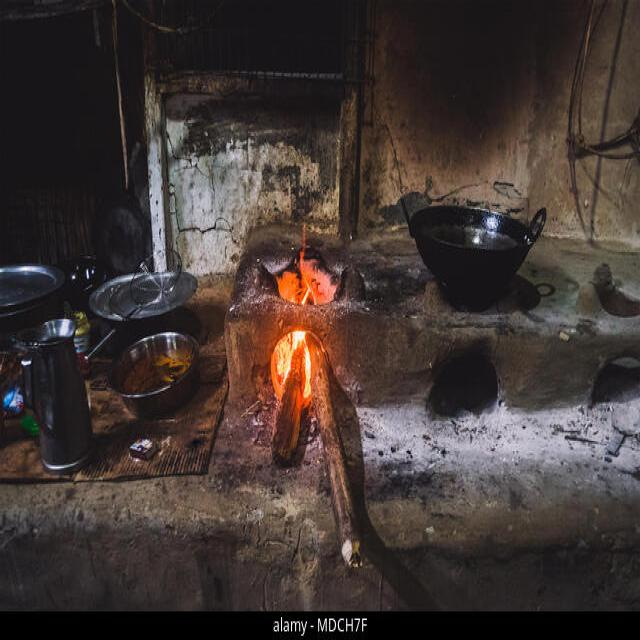fire: (275, 331, 305, 393)
